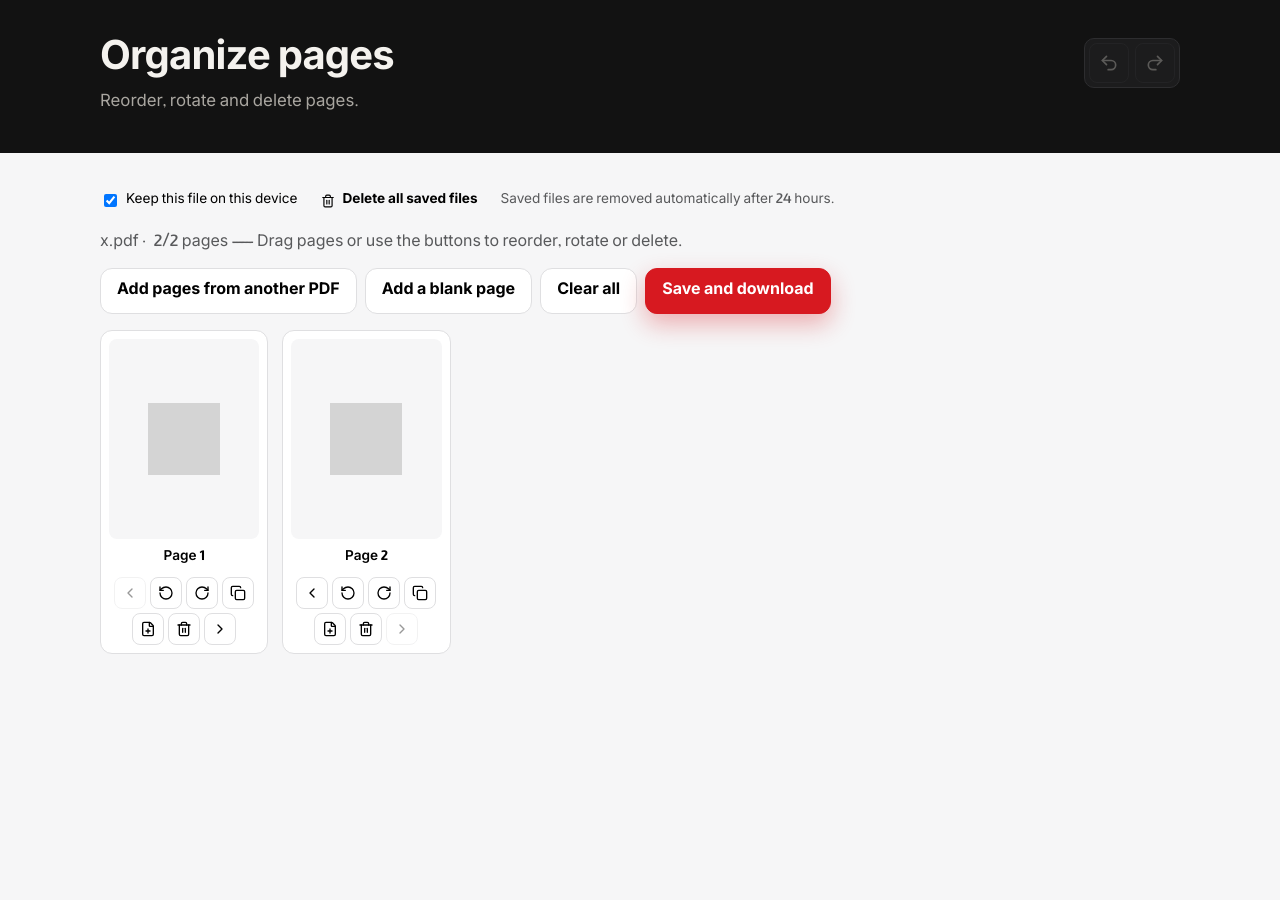
Scenario: OrganizeTool › blocks saving when every page is deleted
The image size is (1280, 900).
Earlier steps of the test are not shown.
Check: the text "Page 2" is shown, box left=345, top=547, right=388, bottom=567
Click the 1st button named "Remove".
click(184, 629)  # box left=168, top=613, right=200, bottom=645
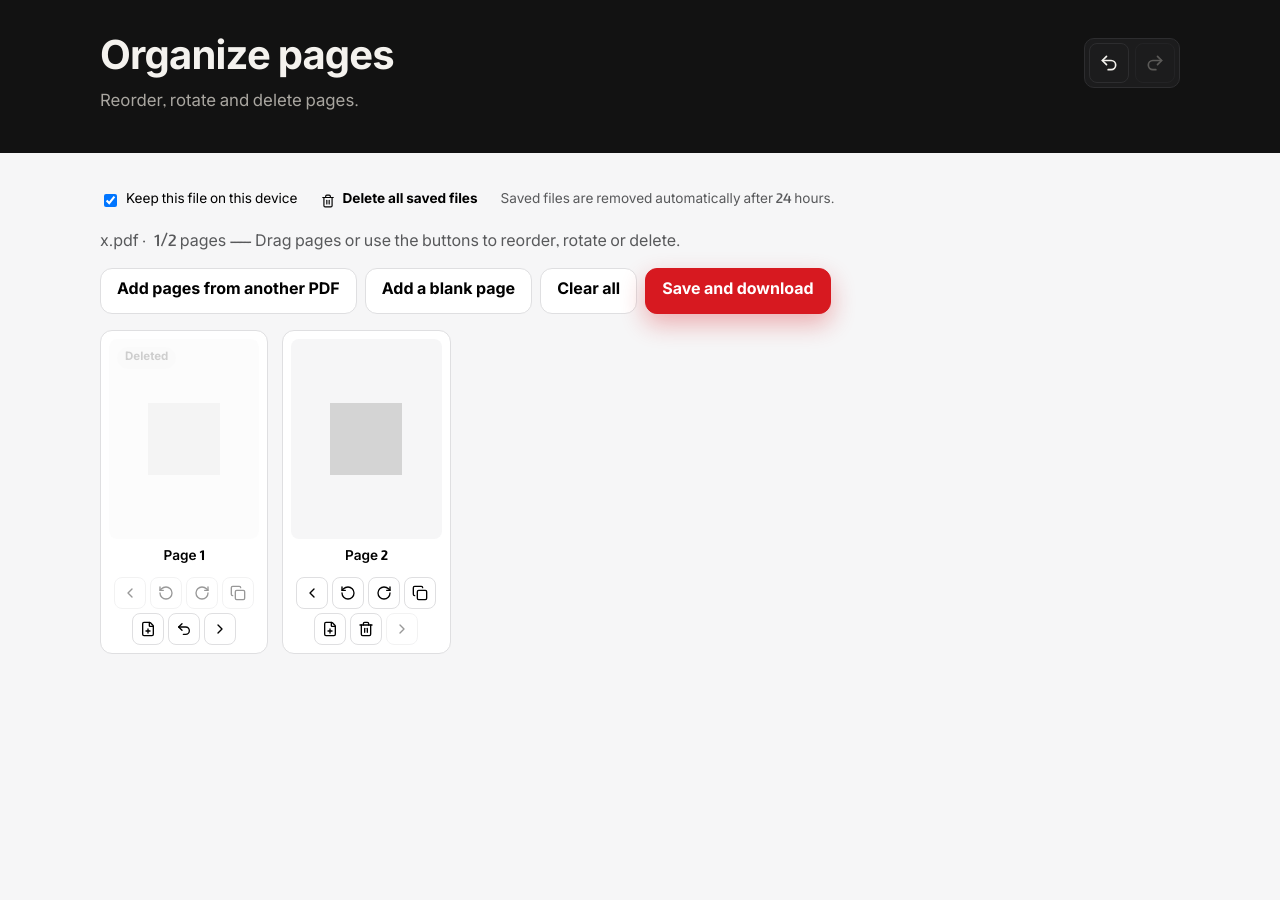
Click the button named "Remove".
click(366, 629)  # box left=350, top=613, right=382, bottom=645
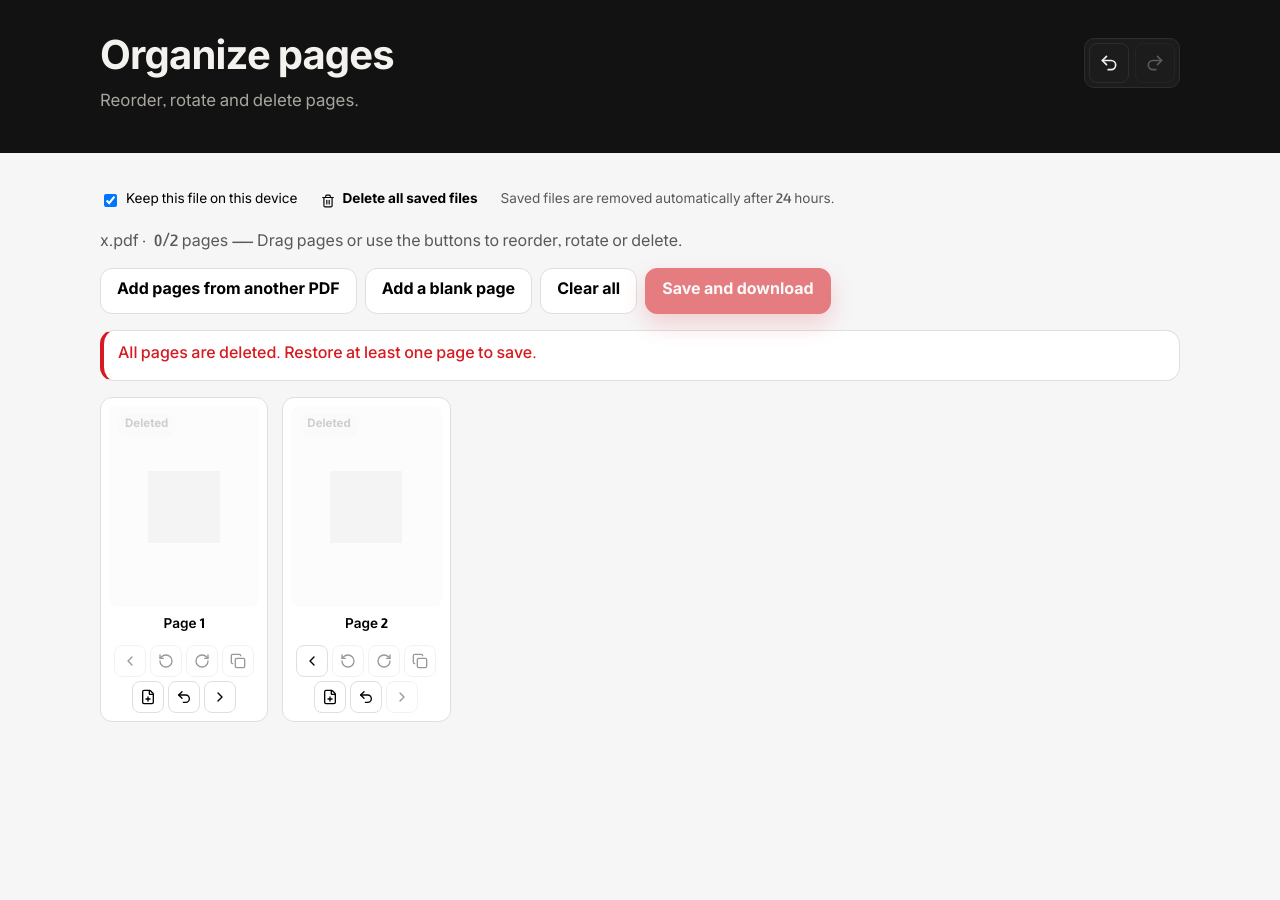
Check: the button "Save and download" is disabled, box left=645, top=268, right=831, bottom=314
